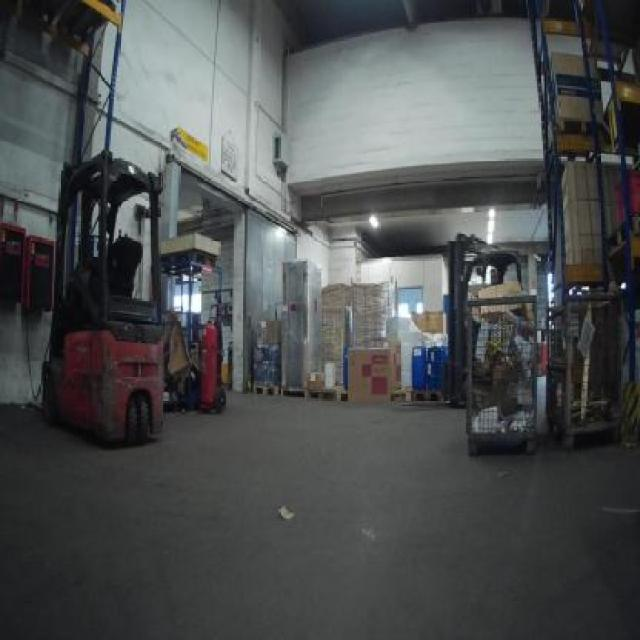ground: (0, 386, 638, 638)
pallet: (547, 410, 629, 454), (248, 383, 344, 400), (159, 246, 220, 266), (551, 117, 606, 138), (409, 385, 448, 406)
